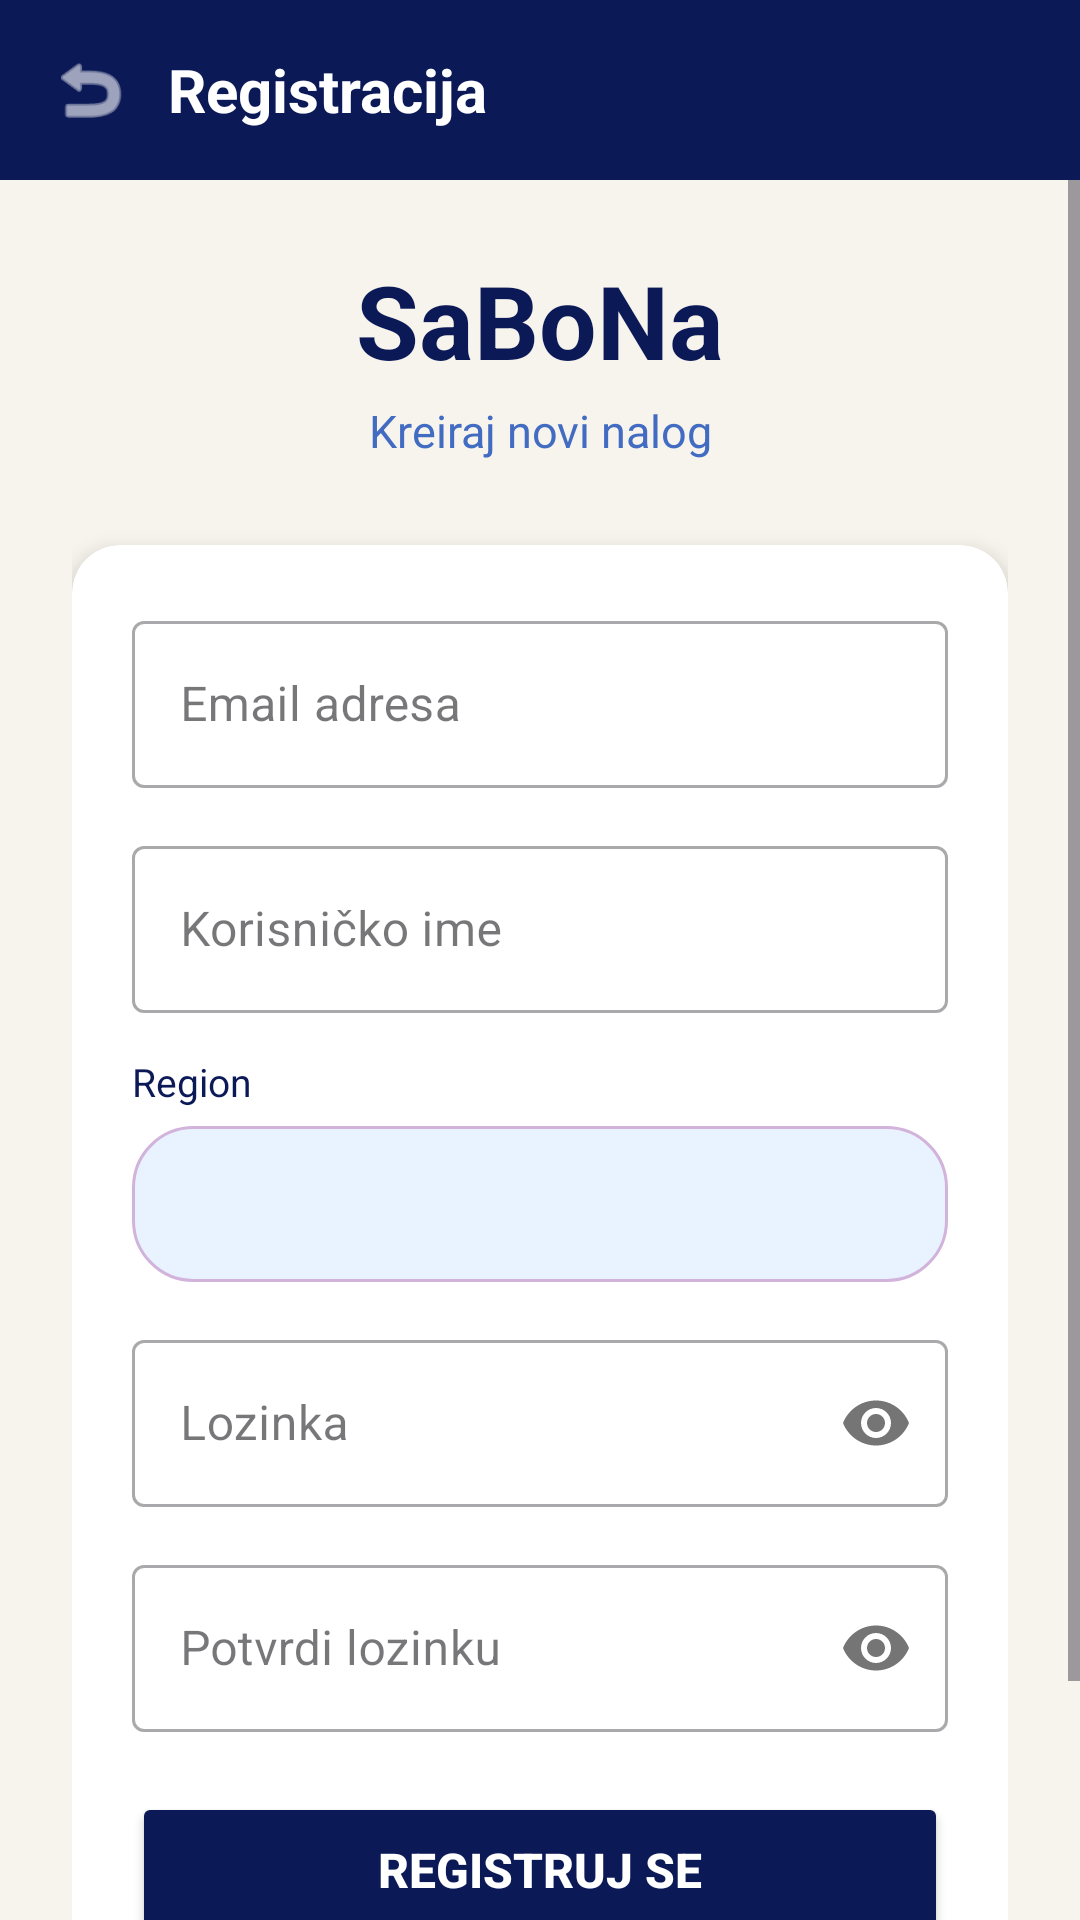

Screen size 1080*1920. Icon name, then its center in pixels as [x,y]:
Nazad: [91,90]
